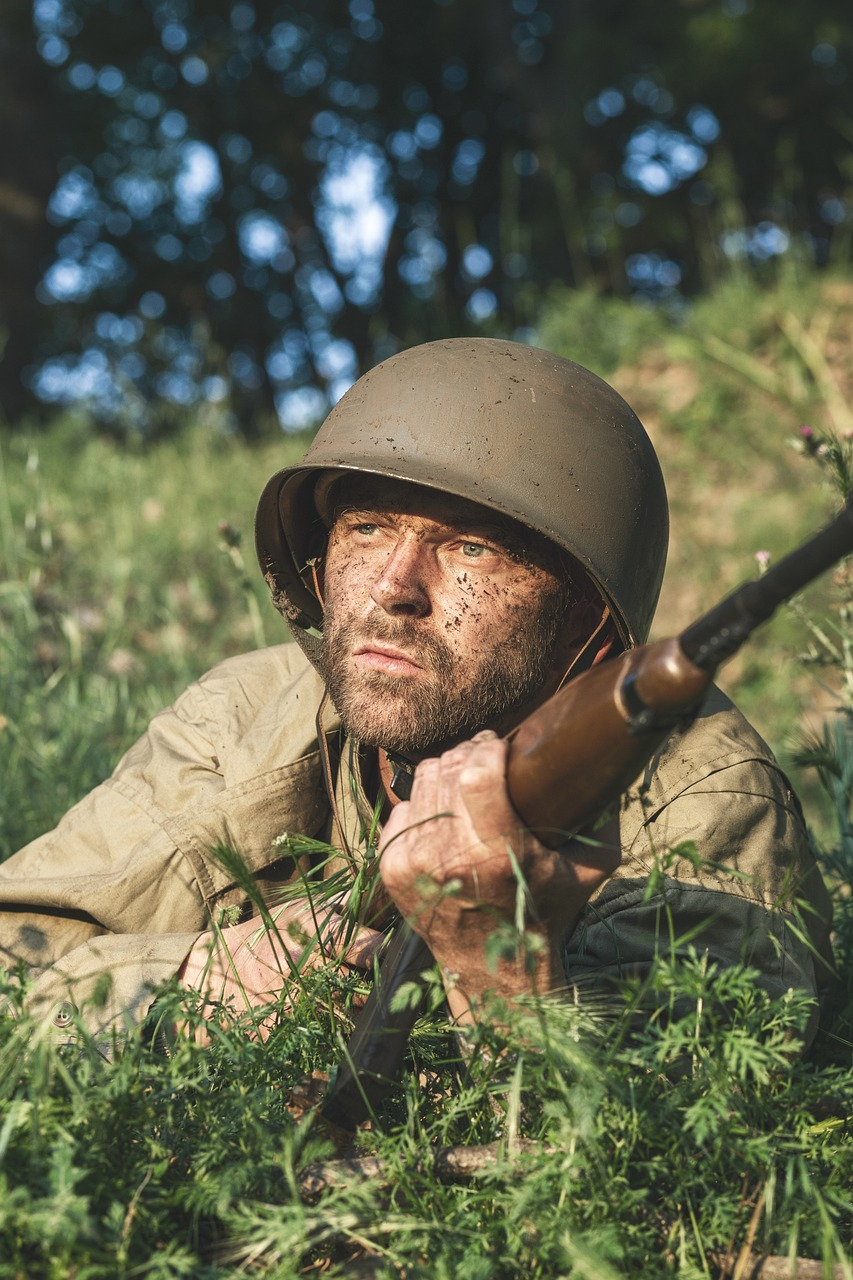gun: (312, 494, 853, 1136)
